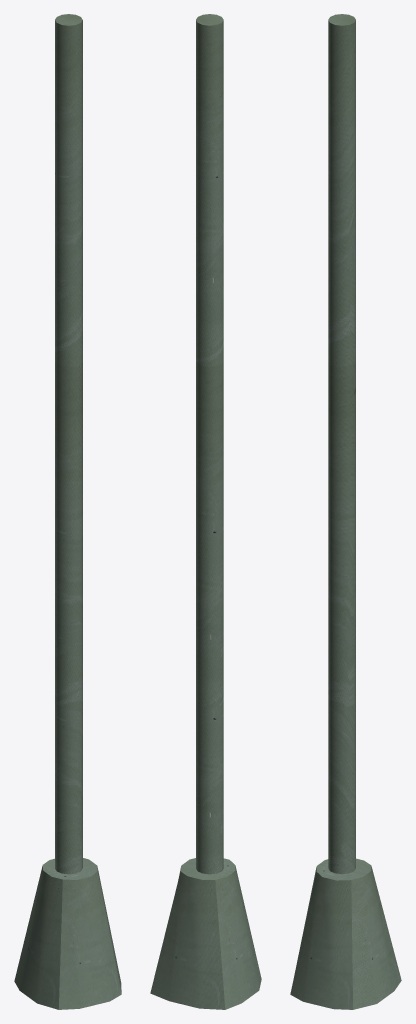
File: stand.FBX
The picture shows the model from 3 angles, left to right: view 1: azimuth 30°, elevation 25°; view 2: azimuth 150°, elevation 25°; view 3: azimuth 330°, elevation 25°; orthographic projection.
Visible parts, largest first — view 1: Box001; view 2: Box001; view 3: Box001.
Boxes of the visible parts, bbox=[...] form: Box001: bbox=[14, 14, 121, 1009]; Box001: bbox=[150, 14, 261, 1009]; Box001: bbox=[290, 14, 401, 1009].
Size of the model in its own units: 2.3 by 25.25 by 2.35.
